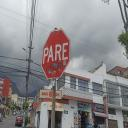Pare: (39, 27, 72, 80)
